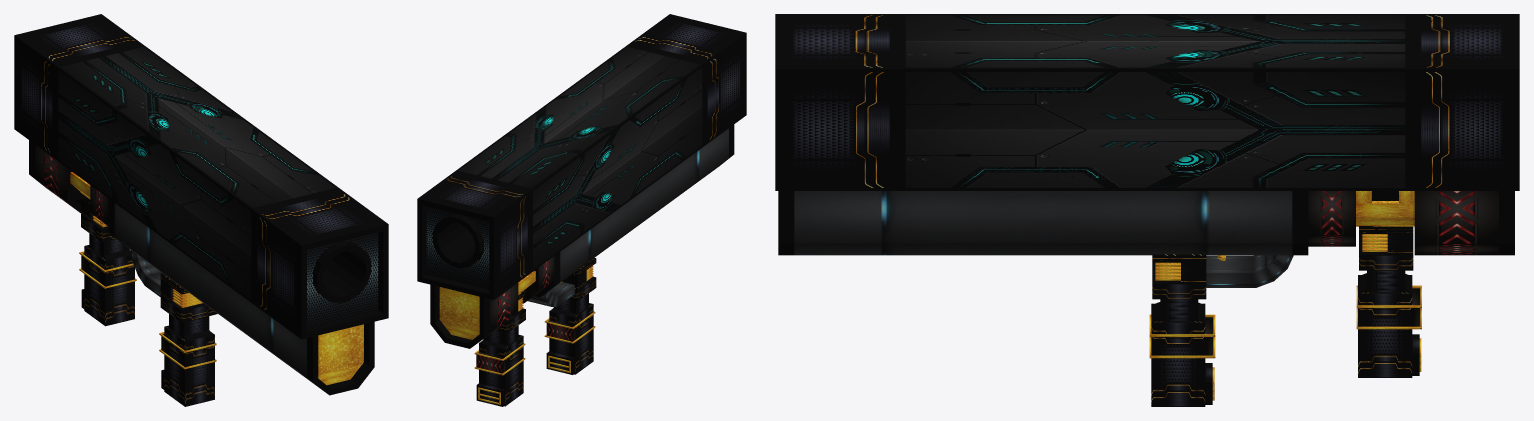
The model's file is bazooka_1.gltf.
The picture shows the model from 3 angles, left to right: view 1: azimuth 30°, elevation 25°; view 2: azimuth 150°, elevation 25°; view 3: azimuth 270°, elevation 25°; orthographic projection. The views are drawn at different scales.
Visible parts, largest first — view 1: 26d3683e-5739-0306-bc55-c81b2d309d30, ae5adacb-a32d-45cc-c84c-b42c2ed95e97, 588c6db2-fc6b-851f-dea4-af0d720be867, 0fcea69b-6e65-a088-a8b8-8772f0dde32c, fc70c528-2731-17e8-2e80-41d08e192a5a, d84b7d7f-2c09-28b2-6bfe-400bb94230d9, c98ab006-3fe4-2c8c-7a7f-83b87c197963, 4f86e88c-de25-9685-a2ec-c88d48d6c32e, 5cb20980-188d-2a72-98d5-efd5aebca213, d90e2d42-0b38-b365-543a-4b26f44d2976, ad35ed93-b5ac-523c-5830-e613f15935d1, 660dca7e-4f04-c71c-c9a6-cbb67a6e8229 (+24 smaller); view 2: 26d3683e-5739-0306-bc55-c81b2d309d30, ae5adacb-a32d-45cc-c84c-b42c2ed95e97, 588c6db2-fc6b-851f-dea4-af0d720be867, 0fcea69b-6e65-a088-a8b8-8772f0dde32c, c98ab006-3fe4-2c8c-7a7f-83b87c197963, 2b7c7cfc-ce19-918d-f3f1-1b210f42c935, 4f86e88c-de25-9685-a2ec-c88d48d6c32e, d90e2d42-0b38-b365-543a-4b26f44d2976, fc70c528-2731-17e8-2e80-41d08e192a5a, d84b7d7f-2c09-28b2-6bfe-400bb94230d9, 89a67f35-9a7c-2903-0351-eabd06fbf6a3, 660dca7e-4f04-c71c-c9a6-cbb67a6e8229 (+27 smaller); view 3: 3af8bc44-4614-7dc2-fc4a-73861f84e43a, ae5adacb-a32d-45cc-c84c-b42c2ed95e97, 588c6db2-fc6b-851f-dea4-af0d720be867, b7cc62d5-a186-ccf4-9b8e-d668388f369d, e5f0004d-7748-9191-34b1-2bd7c3d66fc3, be7e6466-4a6a-2fe4-cf98-846ba8a5a8ed, c98ab006-3fe4-2c8c-7a7f-83b87c197963, fc70c528-2731-17e8-2e80-41d08e192a5a, d84b7d7f-2c09-28b2-6bfe-400bb94230d9, 660dca7e-4f04-c71c-c9a6-cbb67a6e8229, d90e2d42-0b38-b365-543a-4b26f44d2976, 5cecbabb-9a6b-6333-bc18-bbd75ff11b88 (+23 smaller).
Boxes of the visible parts, x1=… form: 26d3683e-5739-0306-bc55-c81b2d309d30: x1=58, y1=70, x2=251, y2=299; ae5adacb-a32d-45cc-c84c-b42c2ed95e97: x1=61, y1=47, x2=335, y2=207; 588c6db2-fc6b-851f-dea4-af0d720be867: x1=114, y1=203, x2=306, y2=377; 0fcea69b-6e65-a088-a8b8-8772f0dde32c: x1=257, y1=215, x2=295, y2=332; fc70c528-2731-17e8-2e80-41d08e192a5a: x1=164, y1=326, x2=214, y2=406; d84b7d7f-2c09-28b2-6bfe-400bb94230d9: x1=84, y1=245, x2=134, y2=325; c98ab006-3fe4-2c8c-7a7f-83b87c197963: x1=260, y1=192, x2=379, y2=240; 4f86e88c-de25-9685-a2ec-c88d48d6c32e: x1=20, y1=42, x2=52, y2=154; 5cb20980-188d-2a72-98d5-efd5aebca213: x1=307, y1=232, x2=378, y2=327; d90e2d42-0b38-b365-543a-4b26f44d2976: x1=23, y1=19, x2=136, y2=62; ad35ed93-b5ac-523c-5830-e613f15935d1: x1=318, y1=324, x2=363, y2=374; 660dca7e-4f04-c71c-c9a6-cbb67a6e8229: x1=35, y1=144, x2=80, y2=202; 26d3683e-5739-0306-bc55-c81b2d309d30: x1=533, y1=67, x2=702, y2=269; ae5adacb-a32d-45cc-c84c-b42c2ed95e97: x1=458, y1=47, x2=699, y2=188; 588c6db2-fc6b-851f-dea4-af0d720be867: x1=560, y1=128, x2=728, y2=281; 0fcea69b-6e65-a088-a8b8-8772f0dde32c: x1=707, y1=39, x2=741, y2=141; c98ab006-3fe4-2c8c-7a7f-83b87c197963: x1=633, y1=18, x2=738, y2=60; 2b7c7cfc-ce19-918d-f3f1-1b210f42c935: x1=426, y1=206, x2=489, y2=289; 4f86e88c-de25-9685-a2ec-c88d48d6c32e: x1=499, y1=195, x2=527, y2=293; d90e2d42-0b38-b365-543a-4b26f44d2976: x1=425, y1=175, x2=525, y2=212; fc70c528-2731-17e8-2e80-41d08e192a5a: x1=549, y1=303, x2=593, y2=374; d84b7d7f-2c09-28b2-6bfe-400bb94230d9: x1=479, y1=335, x2=523, y2=405; 89a67f35-9a7c-2903-0351-eabd06fbf6a3: x1=439, y1=287, x2=479, y2=330; 660dca7e-4f04-c71c-c9a6-cbb67a6e8229: x1=490, y1=282, x2=518, y2=332; 3af8bc44-4614-7dc2-fc4a-73861f84e43a: x1=905, y1=72, x2=1405, y2=187; ae5adacb-a32d-45cc-c84c-b42c2ed95e97: x1=905, y1=15, x2=1405, y2=67; 588c6db2-fc6b-851f-dea4-af0d720be867: x1=794, y1=191, x2=1292, y2=243; b7cc62d5-a186-ccf4-9b8e-d668388f369d: x1=791, y1=72, x2=889, y2=187; e5f0004d-7748-9191-34b1-2bd7c3d66fc3: x1=1421, y1=72, x2=1503, y2=187; be7e6466-4a6a-2fe4-cf98-846ba8a5a8ed: x1=794, y1=243, x2=1292, y2=255; c98ab006-3fe4-2c8c-7a7f-83b87c197963: x1=791, y1=15, x2=889, y2=67; fc70c528-2731-17e8-2e80-41d08e192a5a: x1=1151, y1=303, x2=1205, y2=406; d84b7d7f-2c09-28b2-6bfe-400bb94230d9: x1=1358, y1=275, x2=1412, y2=377; 660dca7e-4f04-c71c-c9a6-cbb67a6e8229: x1=1414, y1=191, x2=1498, y2=243; d90e2d42-0b38-b365-543a-4b26f44d2976: x1=1421, y1=15, x2=1503, y2=67; 5cecbabb-9a6b-6333-bc18-bbd75ff11b88: x1=905, y1=67, x2=1405, y2=71.
Bounding box in the file's own units: 0.5125 × 1.54 × 2.92.
Materials: 7 (7 with a texture image).
